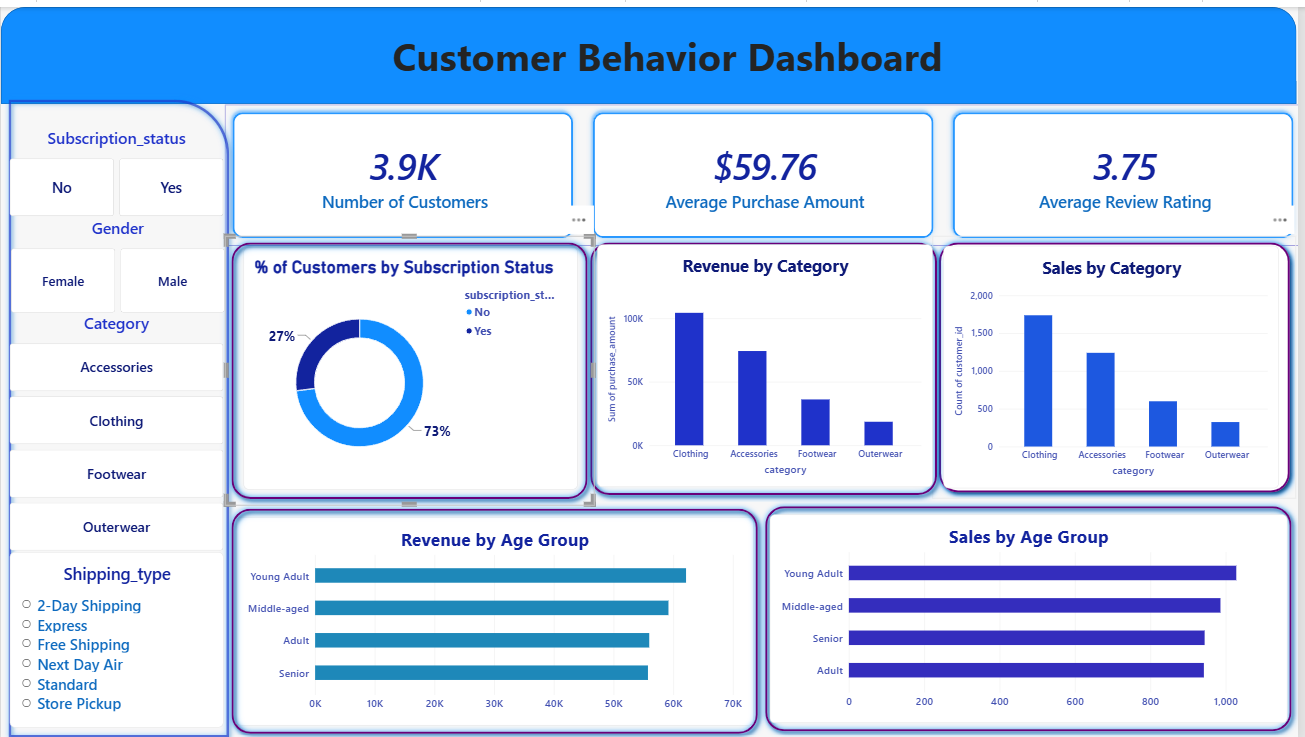

This screenshot's page, from the dashboard's own definition file:
{"tool":"powerbi","page":{"name":"Page 1","canvas":[1980,1120],"ordinal":0},"visuals":[{"type":"cardVisual","fields":{"Data":["public customer_data.Number of Customers","public customer_data.Average Purchase Amount","public customer_data.Average Review Rating"]},"box":[342,148,1646,216],"z":0},{"type":"shape","box":[0,0,1978,148],"z":5},{"type":"textbox","box":[148,34,1738,114],"z":6},{"type":"shape","box":[1422,350,556,402],"z":7},{"type":"donutChart","title":"% of Customers by Subscription Status","fields":{"Category":["public customer_data.subscription_status"],"Y":["CountNonNull(public customer_data.customer_id)"]},"box":[370,366,510,370],"z":8},{"type":"shape","box":[890,350,550,406],"z":9},{"type":"shape","box":[342,350,564,412],"z":10},{"type":"clusteredColumnChart","title":"Revenue by Category","fields":{"Category":["public customer_data.category"],"Y":["Sum(public customer_data.purchase_amount)"]},"box":[910,362,512,370],"z":11},{"type":"clusteredColumnChart","title":"Sales by Category","fields":{"Category":["public customer_data.category"],"Y":["CountNonNull(public customer_data.customer_id)"]},"box":[1440,364,512,370],"z":12},{"type":"shape","box":[2,132,356,994],"z":13},{"type":"advancedSlicerVisual","title":"Subscription_status","fields":{"Values":["public customer_data.subscription_status"]},"box":[14,184,326,136],"z":14},{"type":"advancedSlicerVisual","title":"Gender","fields":{"Values":["public customer_data.gender"]},"box":[16,320,326,146],"z":15},{"type":"advancedSlicerVisual","title":"Category","fields":{"Values":["public customer_data.category"]},"box":[14,466,326,366],"z":16},{"type":"listSlicer","title":"Shipping_type","fields":{"Values":["public customer_data.shipping_type"]},"box":[14,832,326,268],"z":17},{"type":"clusteredBarChart","title":"Revenue by Age Group","fields":{"Category":["public customer_data.age_group"],"Y":["Sum(public customer_data.purchase_amount)"]},"box":[358,778,790,318],"z":18},{"type":"shape","box":[342,756,824,364],"z":19},{"type":"shape","box":[1156,752,824,364],"z":20},{"type":"clusteredBarChart","title":"Sales by Age Group","fields":{"Category":["public customer_data.age_group"],"Y":["CountNonNull(public customer_data.customer_id)"]},"box":[1174,774,790,318],"z":21}]}

Visuals, with their boxes in screenshot pixels (x1, y1, x2, y2), scaled from the page's 1980x1120 canvas onto the 1305x737 screenshot:
cardVisual - public customer_data.Number of Customers x public customer_data.Average Purchase Amount: (225,97,1304,240)
shape: (0,0,1304,97)
textbox: (98,22,1243,97)
shape: (937,230,1304,495)
"% of Customers by Subscription Status" donutChart: (244,241,580,484)
shape: (587,230,949,497)
shape: (225,230,597,501)
"Revenue by Category" clusteredColumnChart: (600,238,937,482)
"Sales by Category" clusteredColumnChart: (949,240,1287,483)
shape: (1,87,236,736)
"Subscription_status" advancedSlicerVisual: (9,121,224,211)
"Gender" advancedSlicerVisual: (11,211,225,307)
"Category" advancedSlicerVisual: (9,307,224,547)
"Shipping_type" listSlicer: (9,547,224,724)
"Revenue by Age Group" clusteredBarChart: (236,512,757,721)
shape: (225,497,768,736)
shape: (762,495,1304,734)
"Sales by Age Group" clusteredBarChart: (774,509,1294,719)
